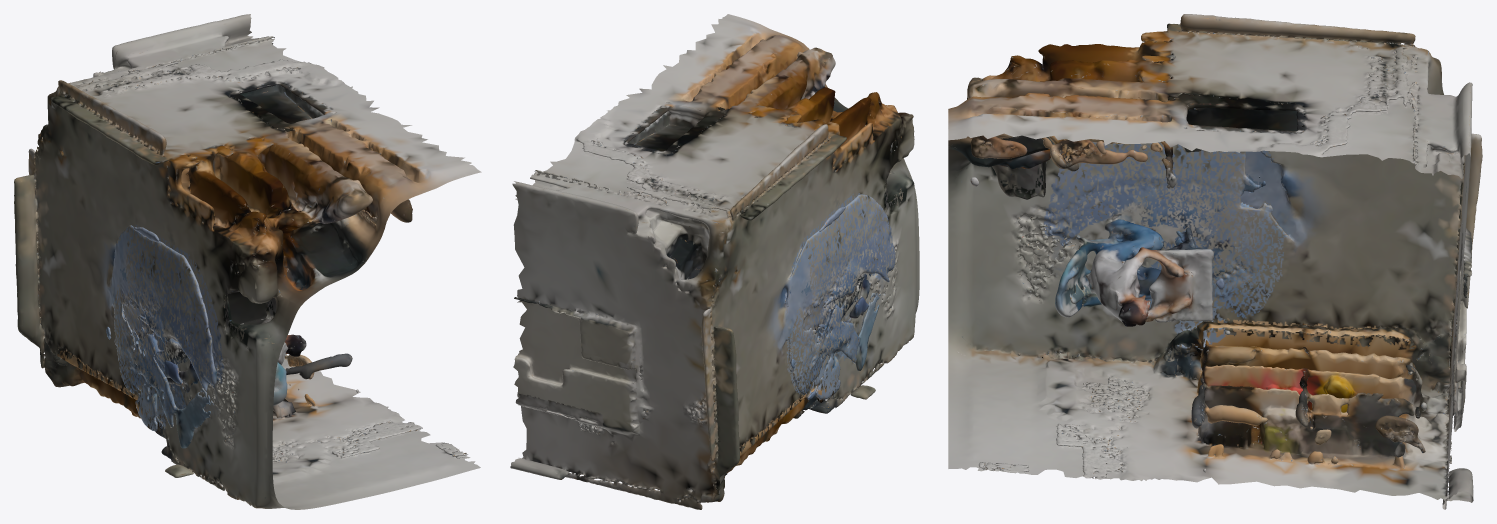
The picture shows the model from 3 angles, left to right: view 1: azimuth 30°, elevation 25°; view 2: azimuth 150°, elevation 25°; view 3: azimuth 270°, elevation 25°; orthographic projection. The views are drawn at different scales.
Visible parts, largest first — view 1: answering_questions_80; view 2: answering_questions_80; view 3: answering_questions_80.
Part boxes in pixels (bbox=[...]): answering_questions_80: bbox=[14, 14, 481, 509]; answering_questions_80: bbox=[510, 14, 919, 509]; answering_questions_80: bbox=[948, 14, 1482, 509].
Size of the model in its own units: 2.38 by 3.23 by 4.11.
Materials: 1 (1 with a texture image).
